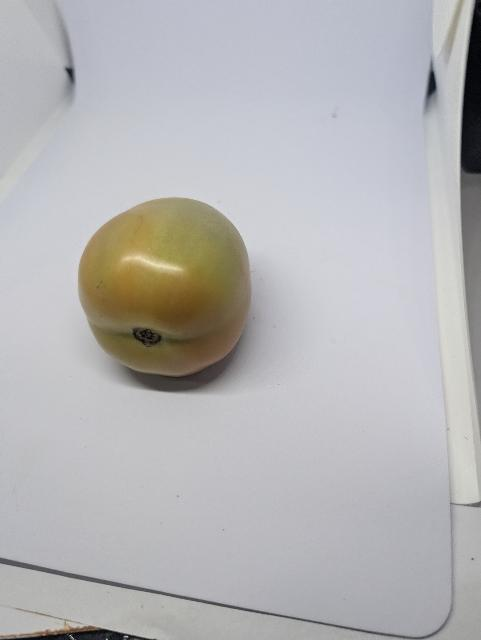breaker: (76, 189, 258, 379)
